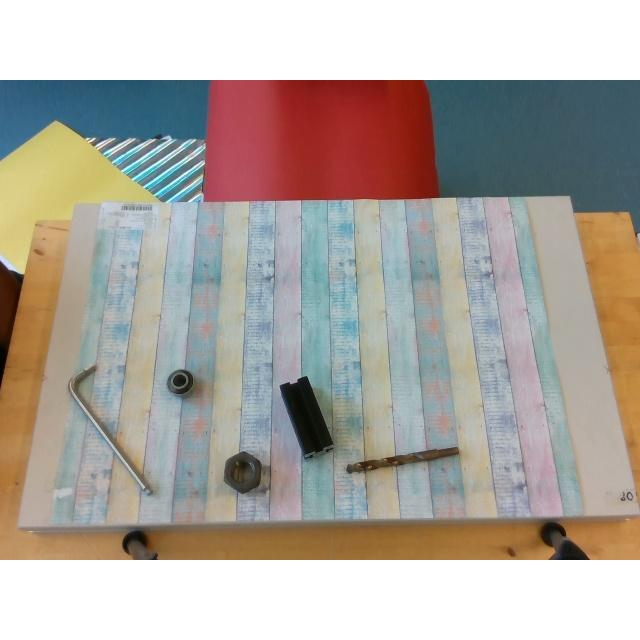AllenKey: (67, 363, 151, 492)
Bearing2: (167, 370, 193, 394)
Drill: (346, 446, 458, 472)
M30: (223, 452, 261, 492)
S40_40_B: (280, 376, 332, 456)
